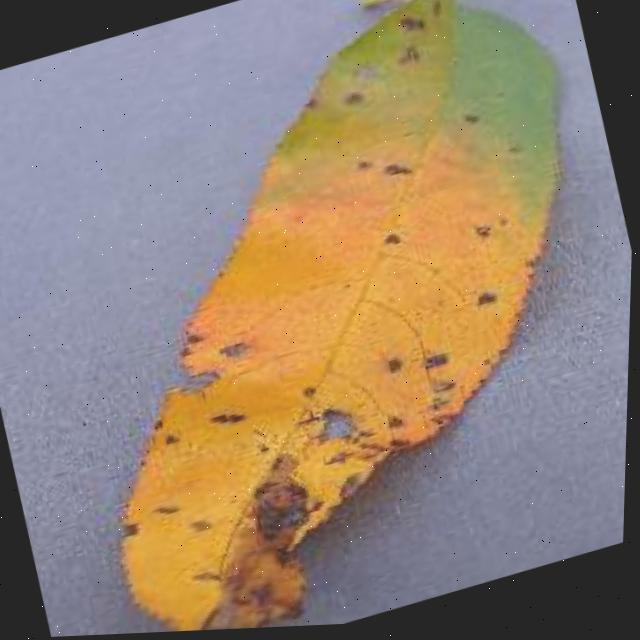Bacterial_spot: (171, 311, 264, 388), (335, 125, 426, 203), (360, 332, 459, 393), (407, 361, 475, 448), (455, 202, 514, 260), (370, 403, 416, 471), (195, 396, 260, 442), (383, 0, 448, 45), (362, 217, 416, 267), (441, 84, 484, 144), (457, 276, 509, 325), (386, 35, 441, 80), (105, 503, 148, 558), (330, 79, 380, 124), (139, 491, 184, 534), (181, 506, 222, 542), (298, 87, 329, 129)
